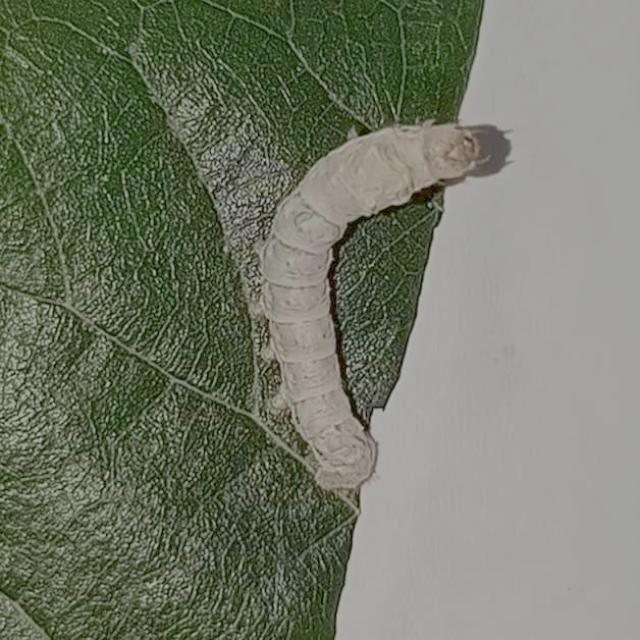Healthy: (236, 99, 488, 502)
